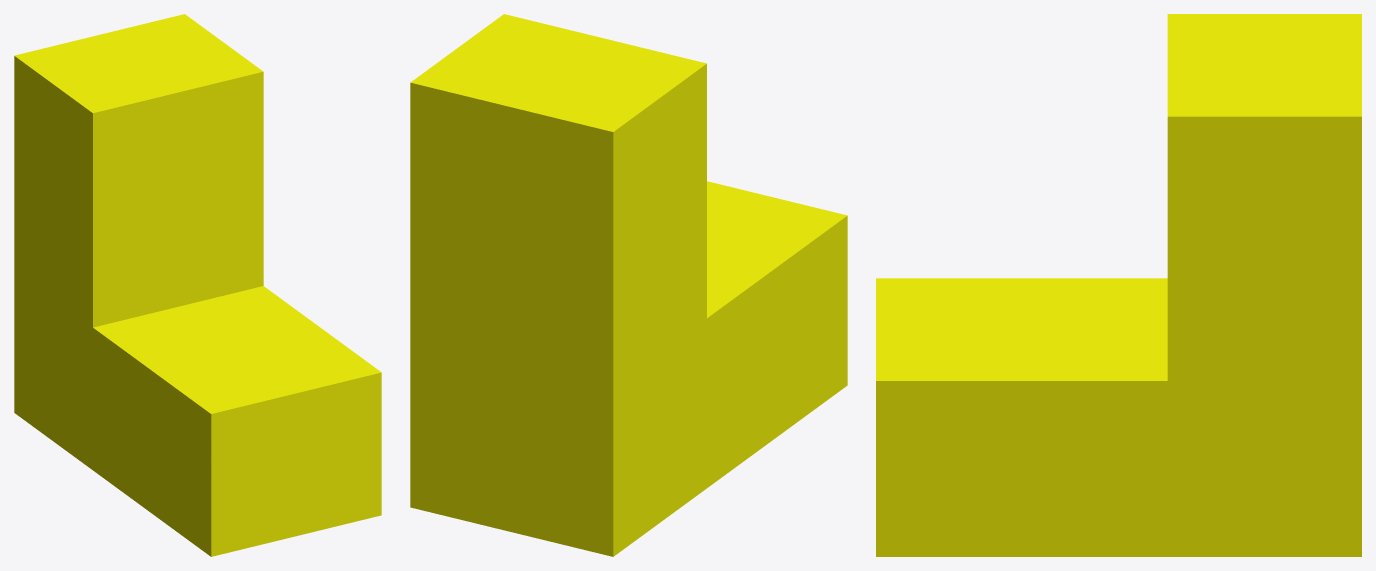
File: modelo_página_09.glb
3 renders of one model, left to right at view 1: azimuth 30°, elevation 25°; view 2: azimuth 150°, elevation 25°; view 3: azimuth 270°, elevation 25°, orthographic. The views are drawn at different scales.
Visible parts, largest first — view 1: Modelo Pagina 09; view 2: Modelo Pagina 09; view 3: Modelo Pagina 09.
Boxes of the visible parts, <box> form: Modelo Pagina 09: <box>14,14,381,556</box>; Modelo Pagina 09: <box>410,14,847,556</box>; Modelo Pagina 09: <box>876,14,1361,556</box>.
Bounding box in the file's own units: 0.015 × 0.03 × 0.03.
